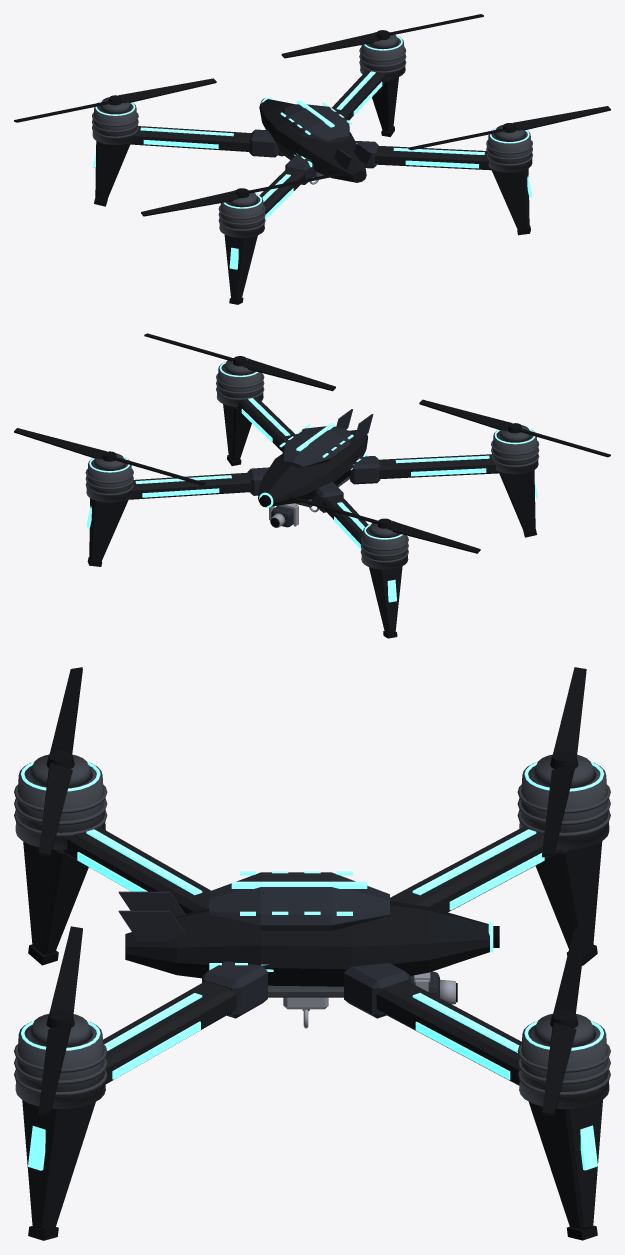
File: drone.glb
The picture shows the model from 3 angles, top to bottom: view 1: azimuth 30°, elevation 25°; view 2: azimuth 150°, elevation 25°; view 3: azimuth 270°, elevation 25°; orthographic projection. The views are drawn at different scales.
Parts seen in each view (by area): view 1: hull, canopy, arm_fl, arm_br, fin_br, fin_fl, prop_bl, prop_fl, prop_fr, prop_br, fin_bl, motor_bl (+16 smaller); view 2: hull, canopy, arm_fr, arm_bl, fin_fr, fin_bl, prop_fl, prop_br, prop_bl, prop_fr, fin_fl, motor_fr (+16 smaller); view 3: hull, canopy, fin_fr, fin_br, fin_bl, arm_fr, fin_fl, arm_br, arm_fl, motor_br, arm_bl, motor_fr (+19 smaller).
Boxes of the visible parts, x1,y1,x2,y2 form: hull: (259, 99, 366, 182); canopy: (283, 104, 349, 143); arm_fl: (130, 126, 251, 151); arm_br: (374, 145, 491, 170); fin_br: (491, 168, 529, 229); fin_fl: (95, 141, 130, 201); prop_bl: (141, 172, 343, 216); prop_fl: (14, 78, 216, 122); prop_fr: (281, 14, 483, 58); prop_br: (408, 106, 610, 150); fin_bl: (224, 234, 257, 299); motor_bl: (219, 194, 264, 237); hull: (258, 430, 367, 506); canopy: (282, 426, 350, 467); arm_fr: (128, 472, 252, 499); arm_bl: (378, 454, 499, 478); fin_fr: (89, 498, 128, 561); fin_bl: (499, 470, 535, 532); prop_fl: (289, 496, 480, 553); prop_br: (144, 333, 335, 391); prop_bl: (419, 399, 610, 457); prop_fr: (14, 428, 205, 485); fin_fl: (369, 566, 402, 632); motor_fr: (86, 457, 132, 502); hull: (125, 901, 489, 986); canopy: (209, 872, 389, 930); fin_fr: (529, 1100, 602, 1229); fin_br: (22, 1100, 95, 1230); fin_bl: (23, 841, 88, 955); arm_fr: (376, 981, 521, 1085); fin_fl: (535, 841, 602, 953); arm_br: (103, 981, 236, 1083); arm_fl: (390, 826, 560, 912); motor_br: (15, 1021, 105, 1108); arm_bl: (63, 826, 210, 913); motor_fr: (519, 1021, 609, 1108).
Bounding box in the file's own units: 3.26 × 0.7362 × 1.85.
